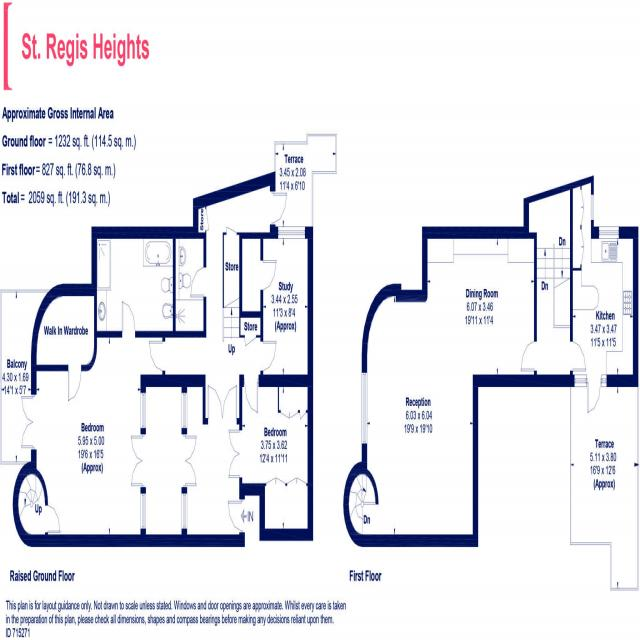DOOR: (120, 294, 139, 341), (242, 371, 260, 419), (188, 262, 208, 303), (269, 188, 289, 229), (146, 338, 168, 374), (66, 362, 84, 405), (43, 501, 64, 537), (226, 498, 246, 535), (259, 338, 278, 376), (519, 338, 538, 374), (569, 339, 587, 374), (587, 377, 602, 417), (138, 389, 148, 433)
ROOM: (343, 224, 538, 550), (19, 298, 166, 549), (569, 174, 639, 420), (227, 371, 314, 544), (258, 223, 314, 388)
WINDOW: (259, 257, 278, 295), (360, 369, 369, 448), (277, 224, 307, 242), (180, 387, 189, 433), (180, 490, 189, 533), (598, 224, 620, 241), (139, 489, 147, 533), (574, 373, 588, 390), (590, 193, 595, 222), (601, 373, 607, 388)
